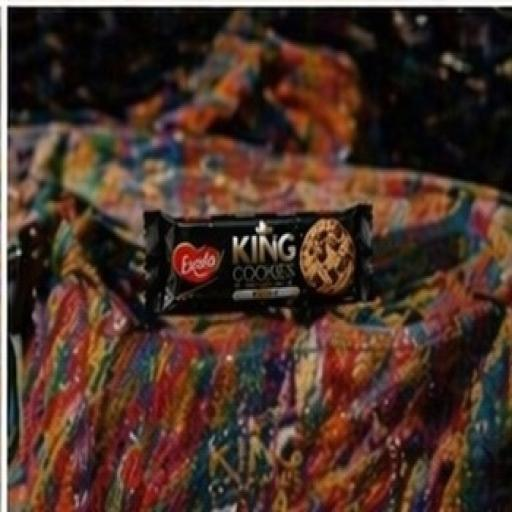king-cooking: (99, 168, 423, 374)
